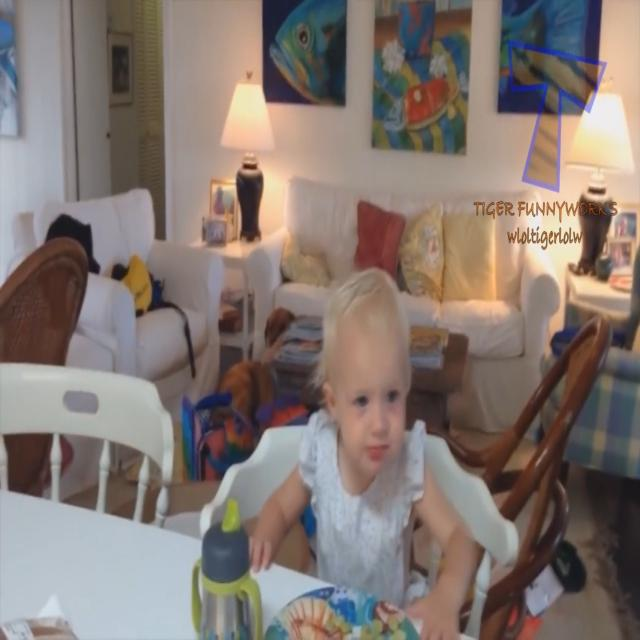safe: (235, 275, 476, 604)
